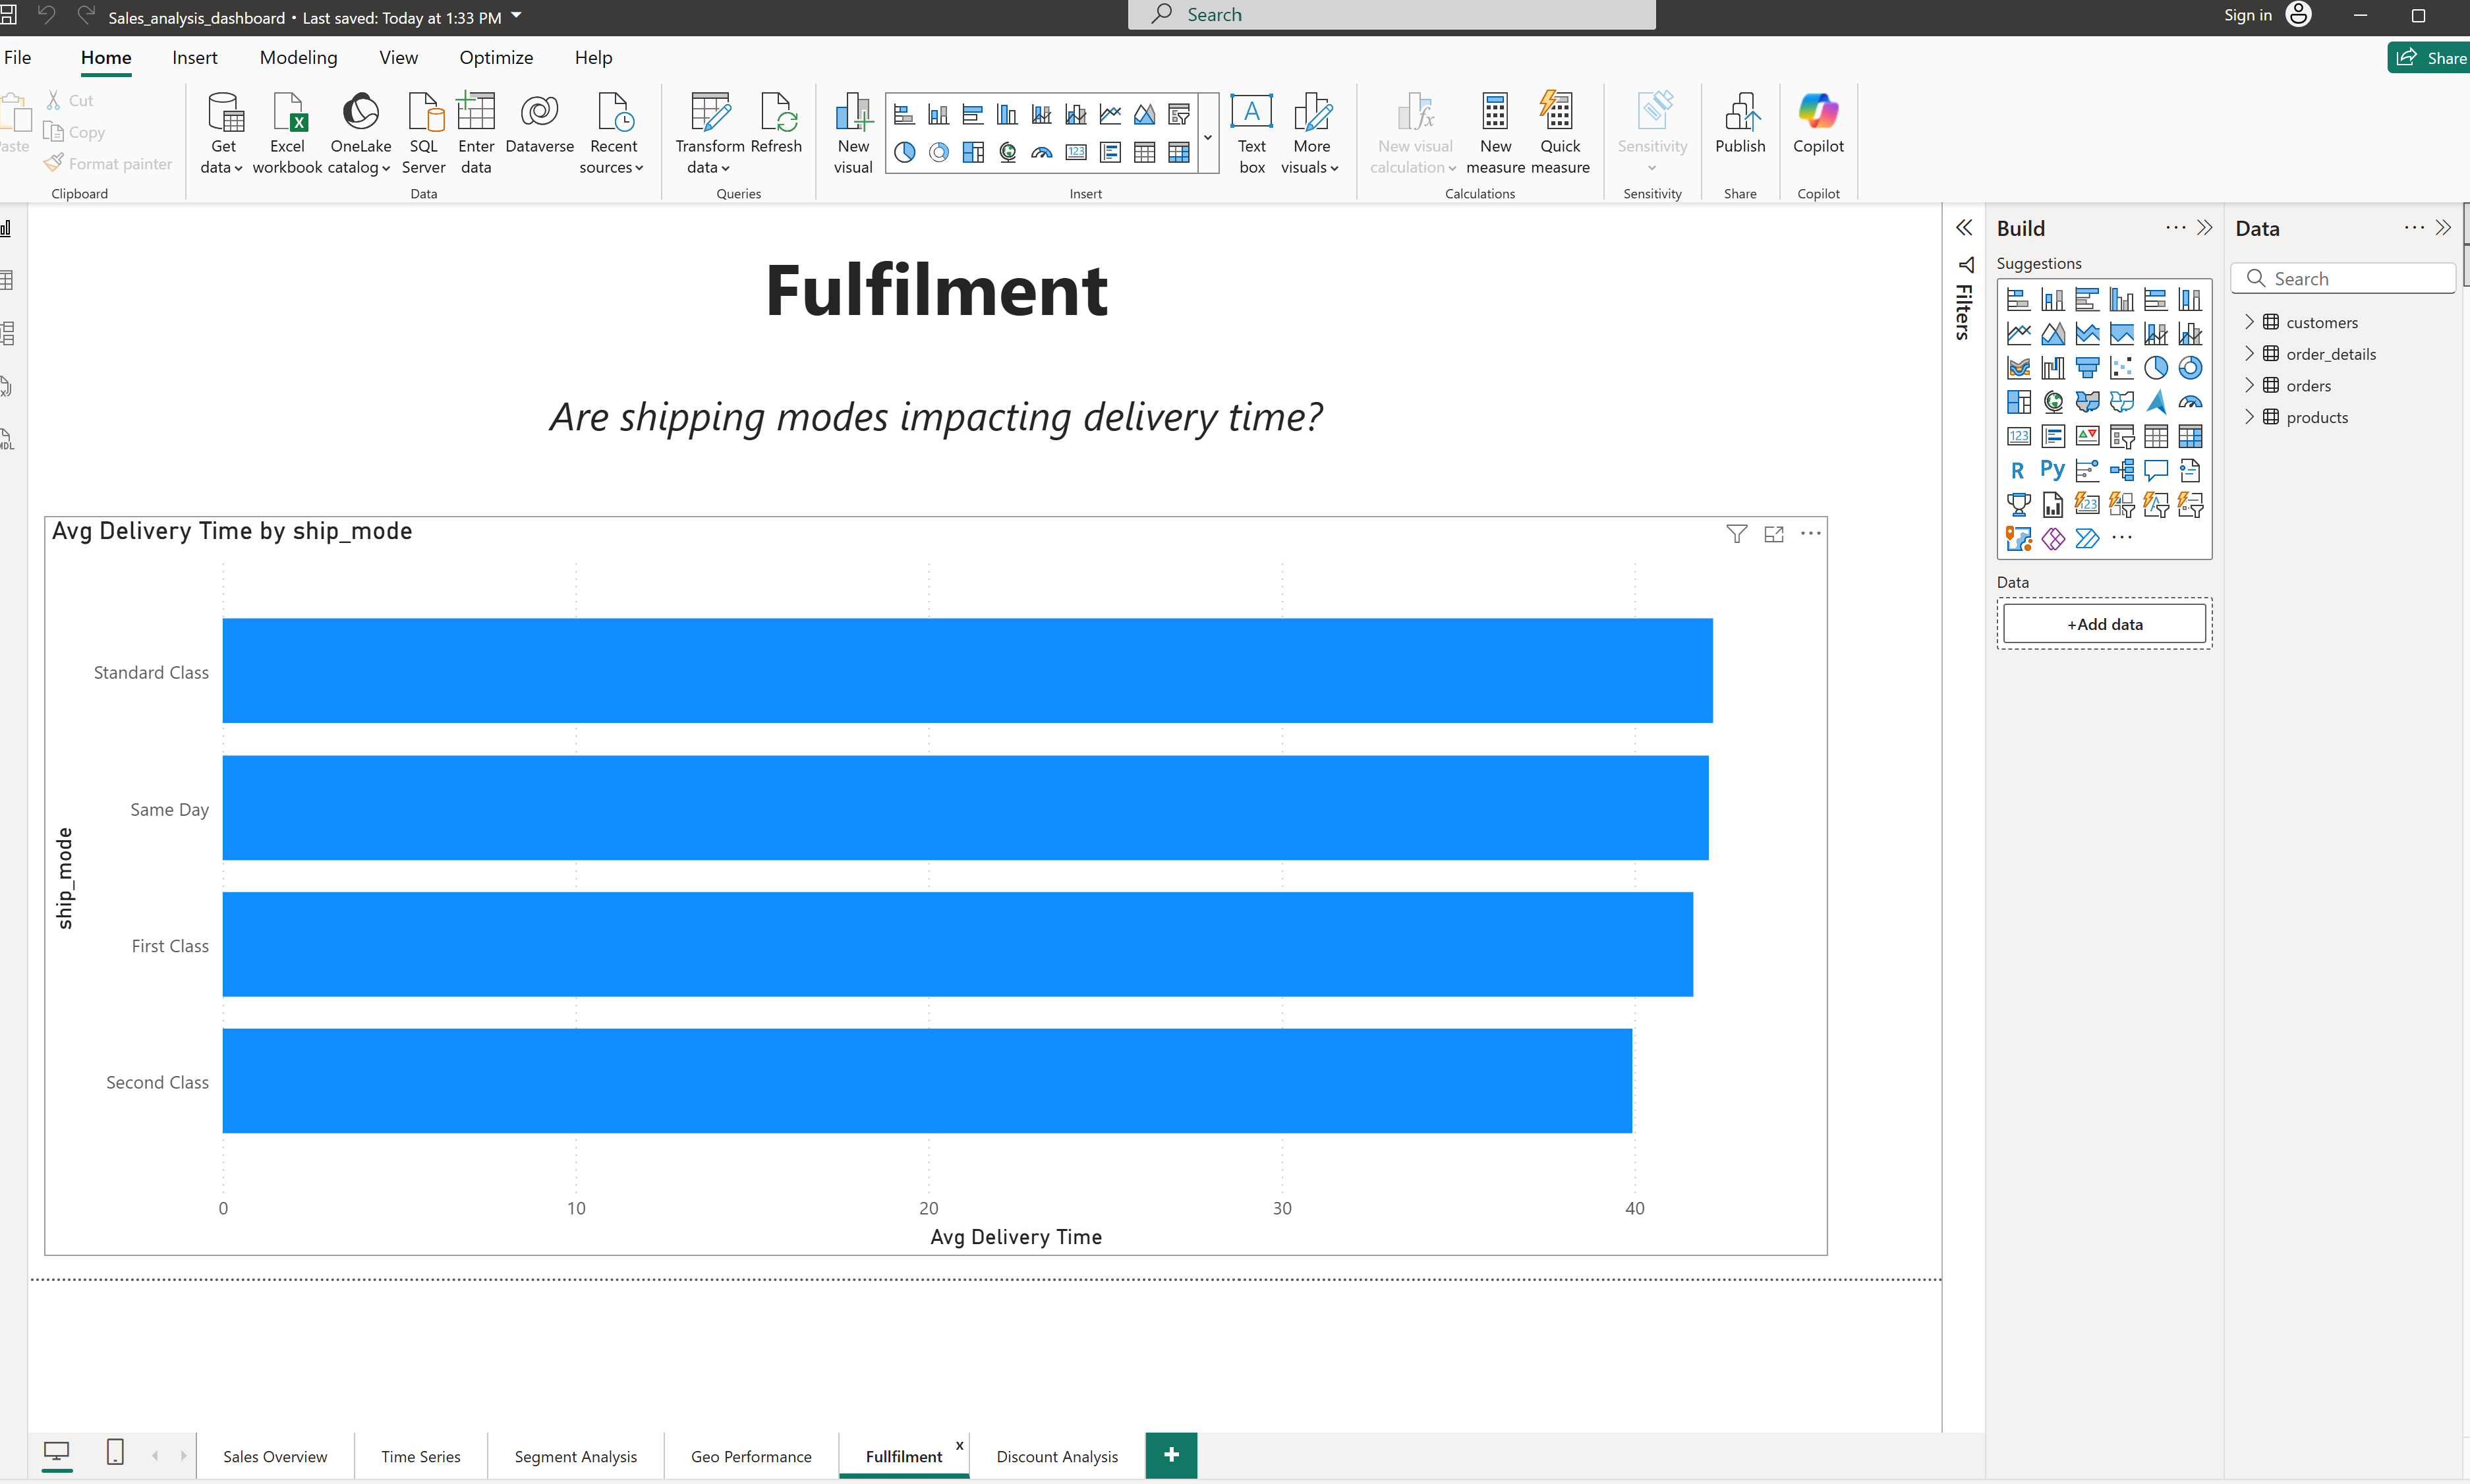

Layout of this report page (visuals, bound fields, positions):
{"tool":"powerbi","page":{"name":"Fullfilment","canvas":[1280,720],"ordinal":4},"visuals":[{"type":"textbox","box":[10.5,18.6,1194,181.2],"z":0},{"type":"clusteredBarChart","fields":{"Category":["orders.ship_mode"],"Y":["orders.Avg Delivery Time"]},"box":[10.5,210.2,1194,494.8],"z":1000}]}

Visuals, with their boxes on the page's 1280x720 design canvas (x1, y1, x2, y2). These are canvas units, not pixel positions in the 2470x1484 screenshot, which may show the page scaled, cropped or inside an application window:
textbox: box(10, 19, 1204, 200)
clusteredBarChart - orders.ship_mode x orders.Avg Delivery Time: box(10, 210, 1204, 705)
